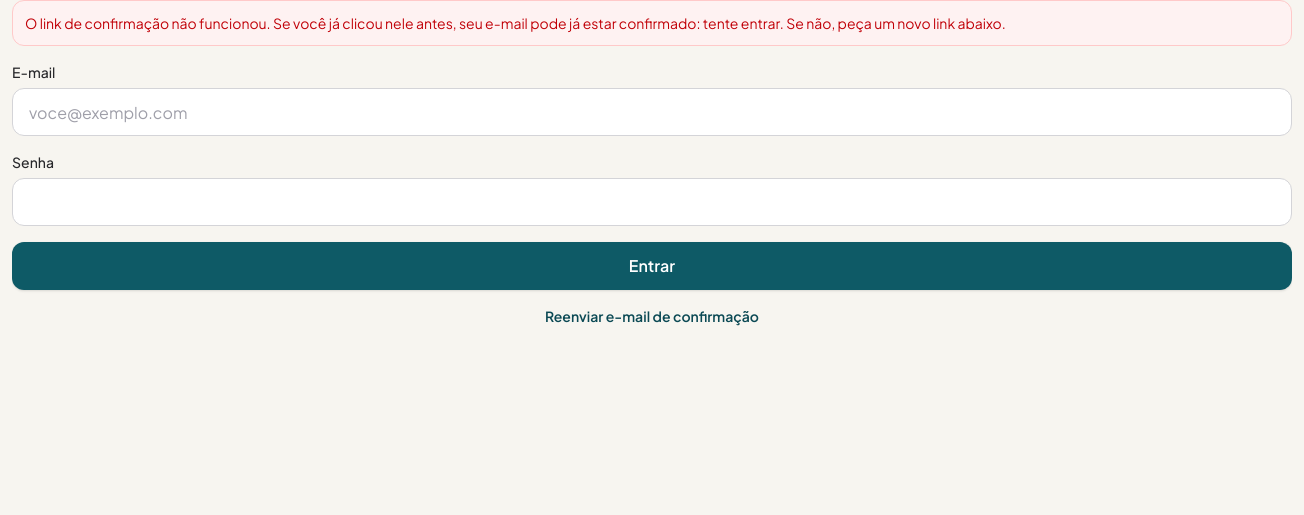
tela de entrar › link de confirmação que falhou: explica e oferece um novo link
The image size is (1304, 515).
expect the message shows "seu e-mail pode já estar confirmado": met, box [25,14,1006,32]
Click the button "Reenviar e-mail de confirmação".
click(652, 316)  # box [12,306,1292,326]
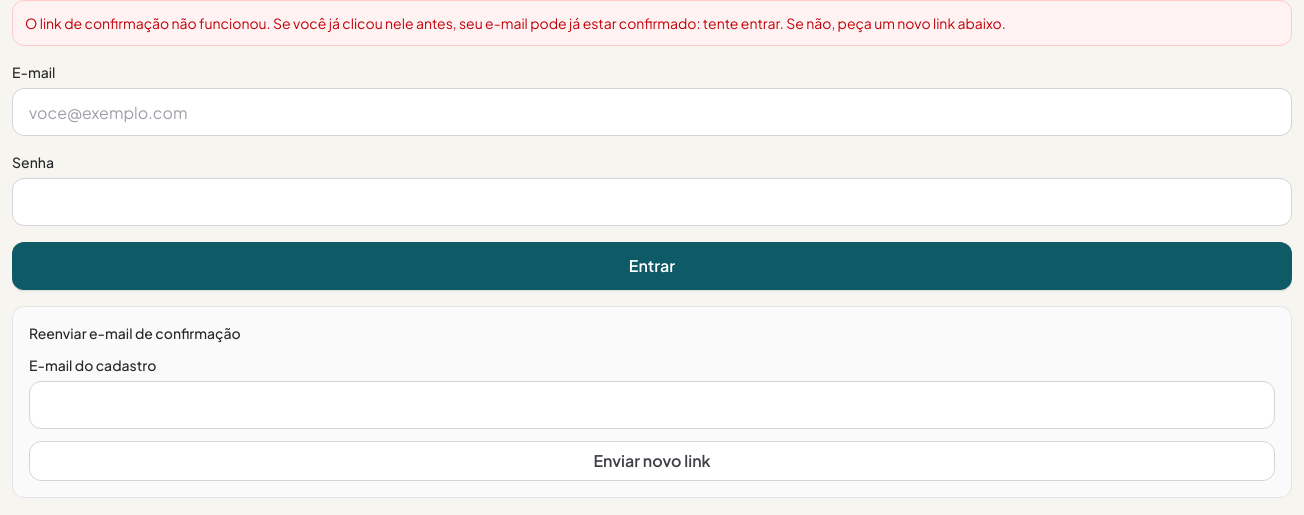
expect the form "Reenviar e-mail de confirmação" is shown: met, box [12,306,1292,498]
